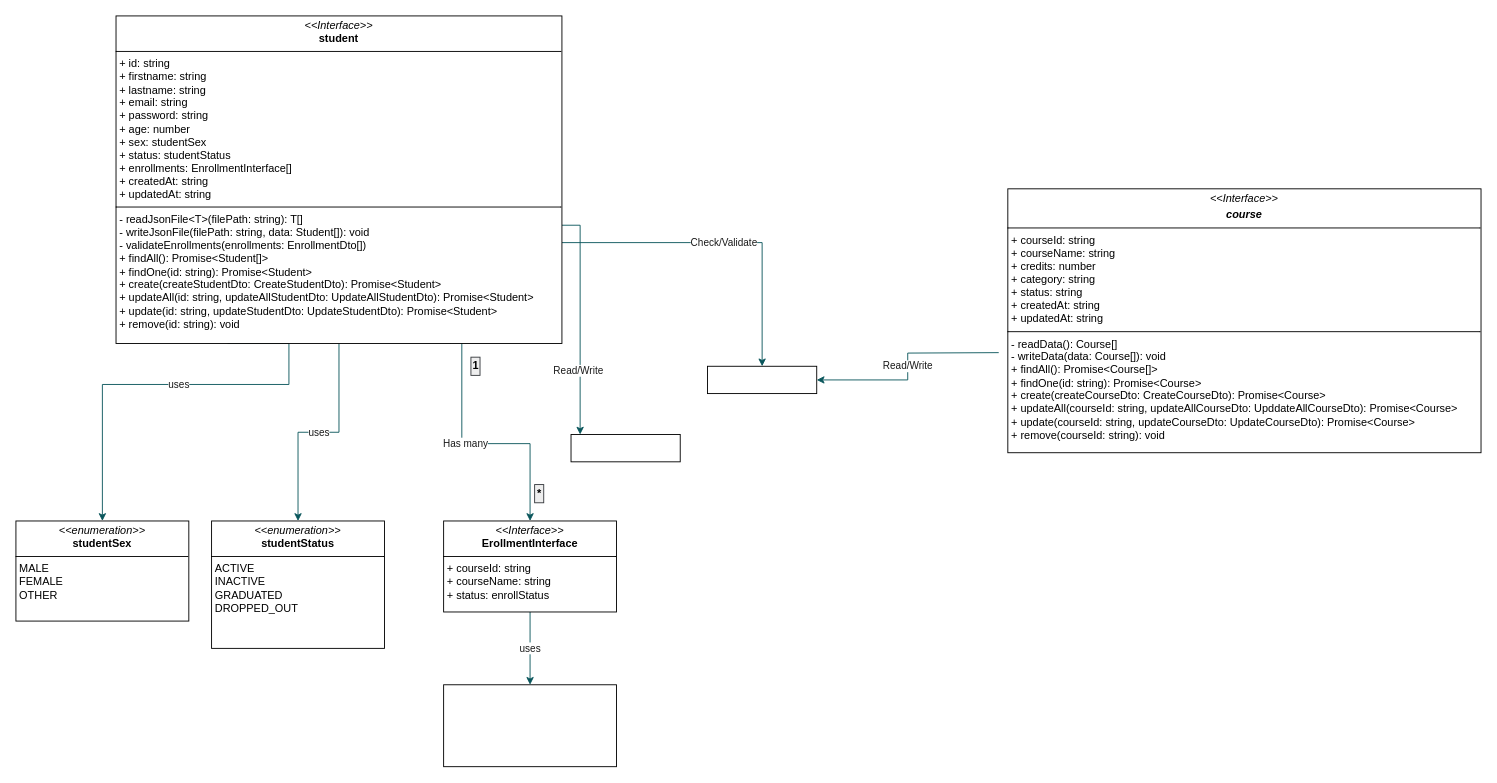
Some shapes in this 1497 by 783 pixel diagram are drawn without their labels. Each missing label, with the box of its shape:
<<enumeration>> enrollStatus ENROLLED WAITLISTED DROPPED: (443, 684, 617, 767)
course.json: (707, 365, 817, 394)
student.json: (570, 434, 680, 462)
